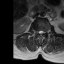CCS_normal: (40, 28, 42, 38)
LFS_stenosis: (44, 28, 46, 35)
LLS_normal: (42, 28, 44, 35)
RFS_stenosis: (35, 28, 37, 34)
RLS_normal: (37, 28, 40, 35)
